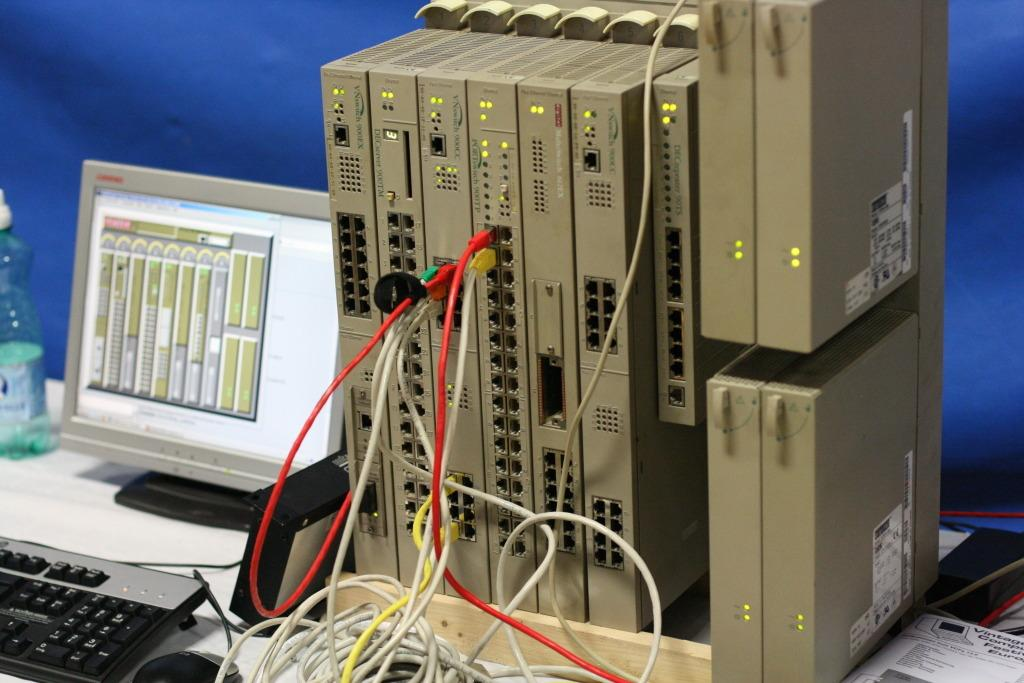Computer-keyboard: (0, 532, 210, 682)
